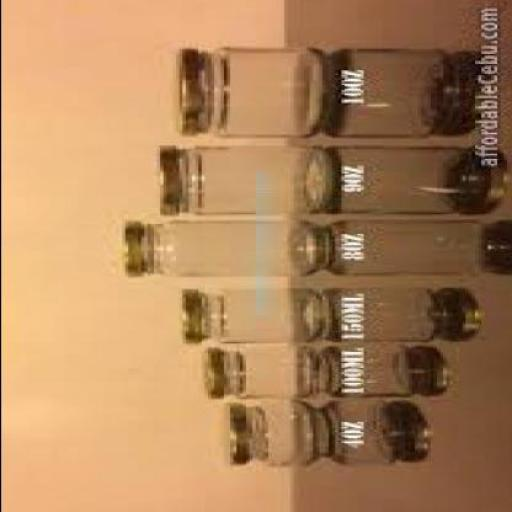glass: (197, 49, 325, 139), (178, 147, 330, 217), (137, 223, 321, 279), (200, 288, 324, 347), (245, 402, 321, 468), (220, 350, 312, 400)
metal: (172, 51, 206, 137), (219, 404, 249, 466), (150, 147, 175, 217), (118, 223, 143, 278), (175, 292, 194, 343), (200, 352, 220, 400)
